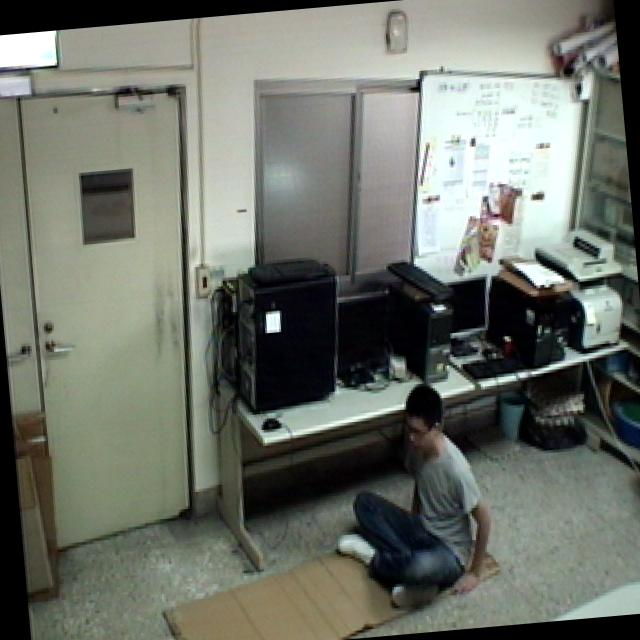sit: (316, 374, 502, 620)
